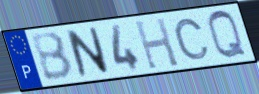4: (111, 22, 142, 72)
B: (29, 30, 76, 83)
C: (172, 17, 211, 62)
H: (133, 16, 182, 71)
N: (64, 25, 112, 79)
Q: (206, 9, 250, 62)
